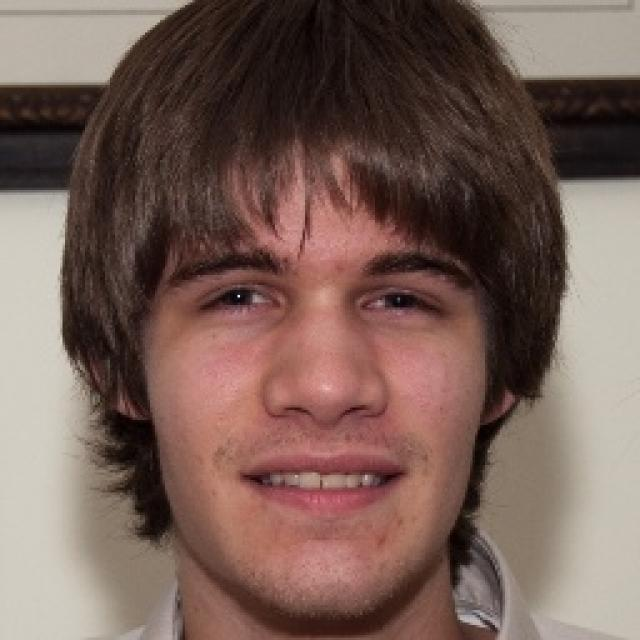earlobe: (478, 373, 516, 427), (118, 372, 157, 424)
eye: (360, 284, 440, 318), (198, 285, 282, 315)
nose: (261, 394, 394, 468)
